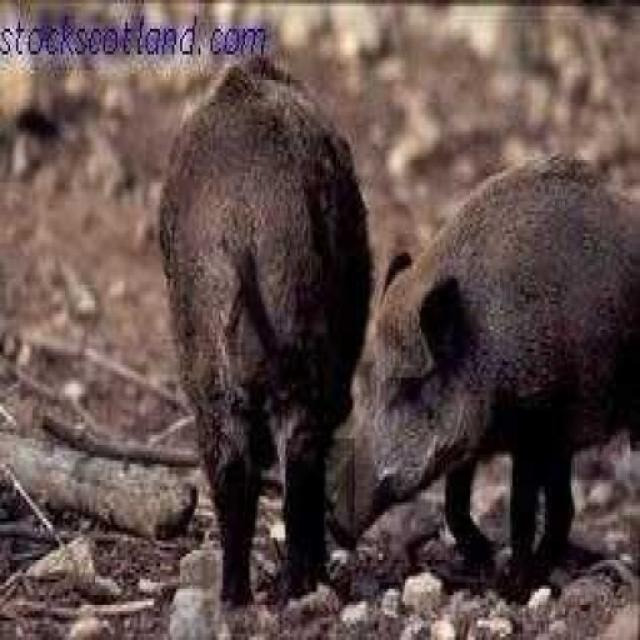pig: (104, 22, 378, 580), (336, 134, 640, 596)
